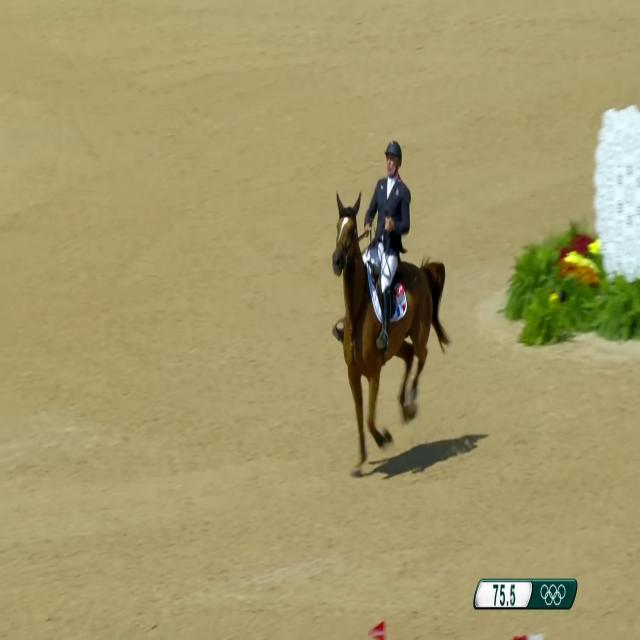Horse Rider: (359, 119, 418, 340)
Horse Running: (307, 173, 464, 481)
